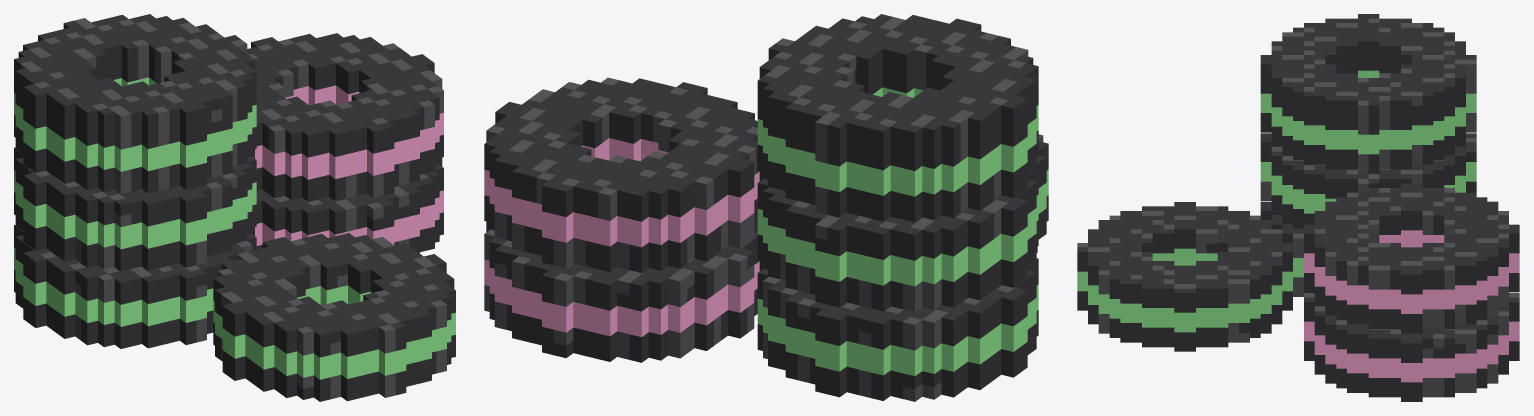
Rendered from T13_Tire_Stack.glb.
The picture shows the model from 3 angles, left to right: view 1: azimuth 30°, elevation 25°; view 2: azimuth 150°, elevation 25°; view 3: azimuth 270°, elevation 25°; orthographic projection. The views are drawn at different scales.
Parts seen in each view (by area): view 1: T13_Tires; view 2: T13_Tires; view 3: T13_Tires.
Part boxes in pixels (x1,y1,x2,y2): T13_Tires: (14,14,455,401); T13_Tires: (484,14,1048,401); T13_Tires: (1077,14,1519,401).
Bounding box in the file's own units: 2 × 1.05 × 2.05.
